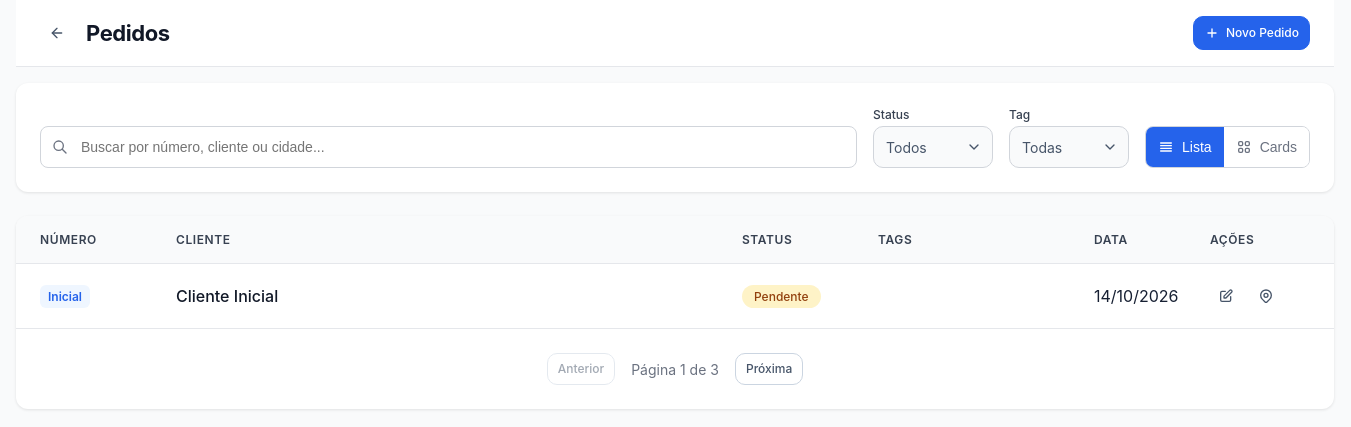
Test case: Order directory navigation › fetches another page and applies search to the server, resetting the page
Click the button "Próxima": (769, 369) [735,353,803,385]
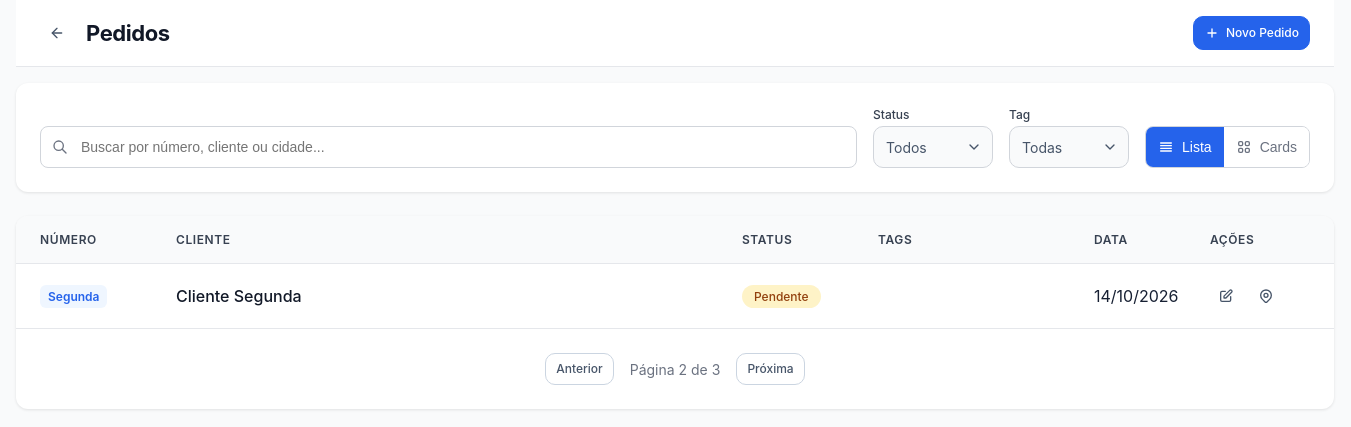
Now the text "Segunda" is shown, box [40,284,108,308]
Now the text "Cliente Inicial" is gone
In the field with placeholder "Buscar por número, cliente ou cidade...": (449, 147) [40,126,857,168], type "Antigo"
Wait 300 ms
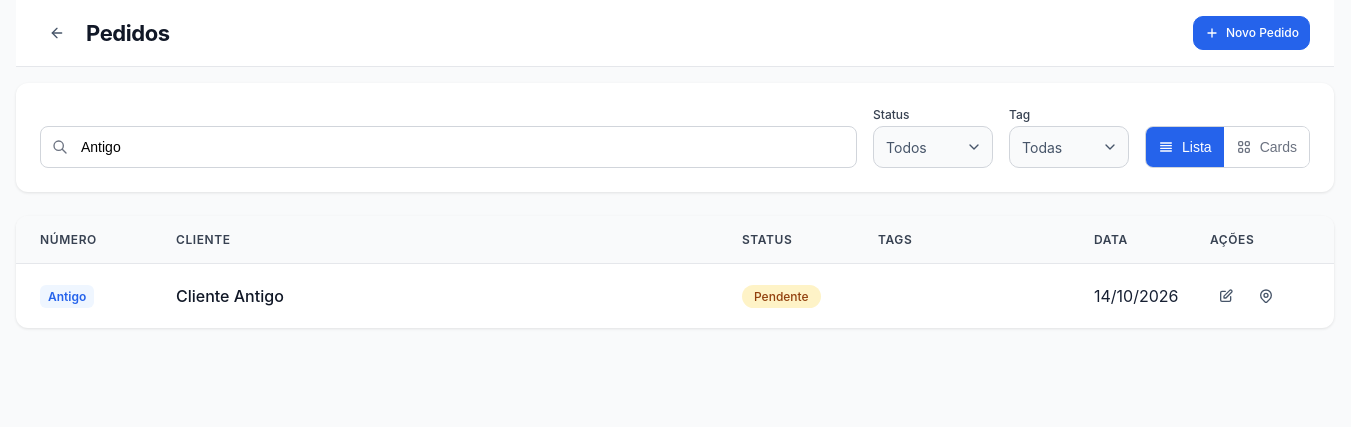
Now the text "Cliente Antigo" is shown, box [176,286,284,306]
